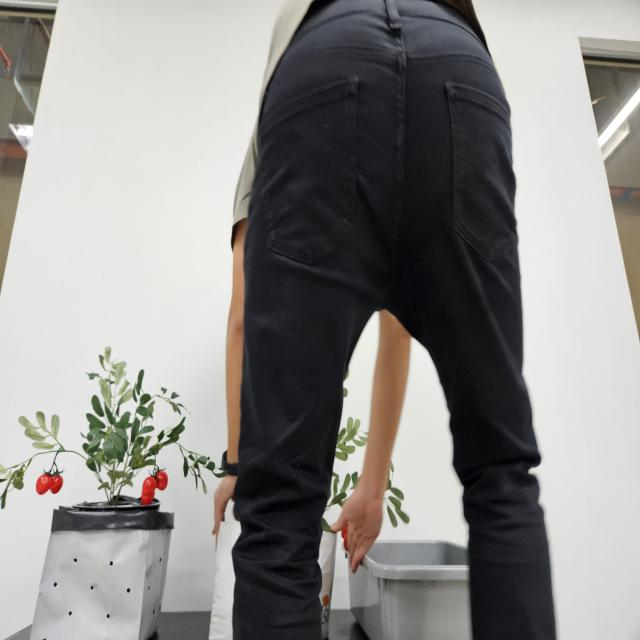Soilbag: (8, 502, 174, 640), (208, 519, 337, 640)
plant: (3, 346, 228, 510)
